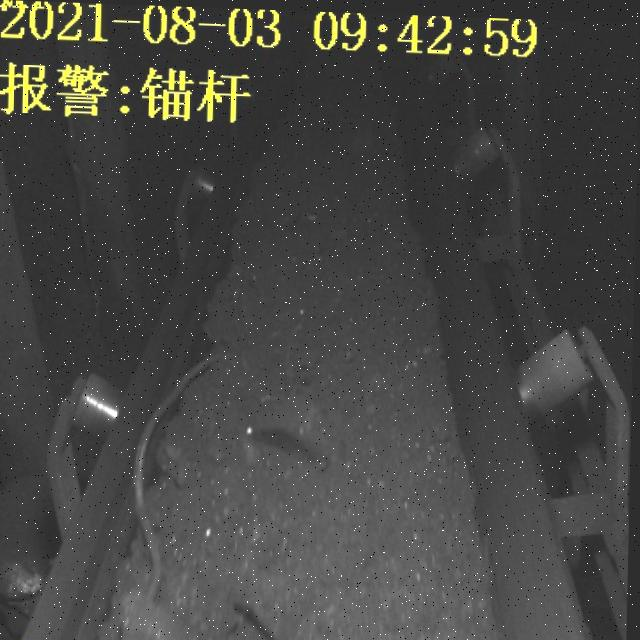bolt: (129, 347, 243, 597)
large_sized_coal: (250, 392, 342, 453), (124, 596, 223, 640), (236, 573, 305, 632)
